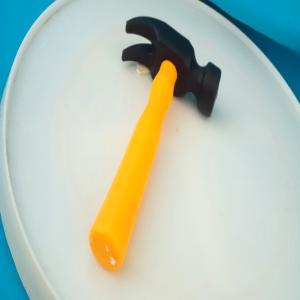martelo: (88, 15, 222, 272)
